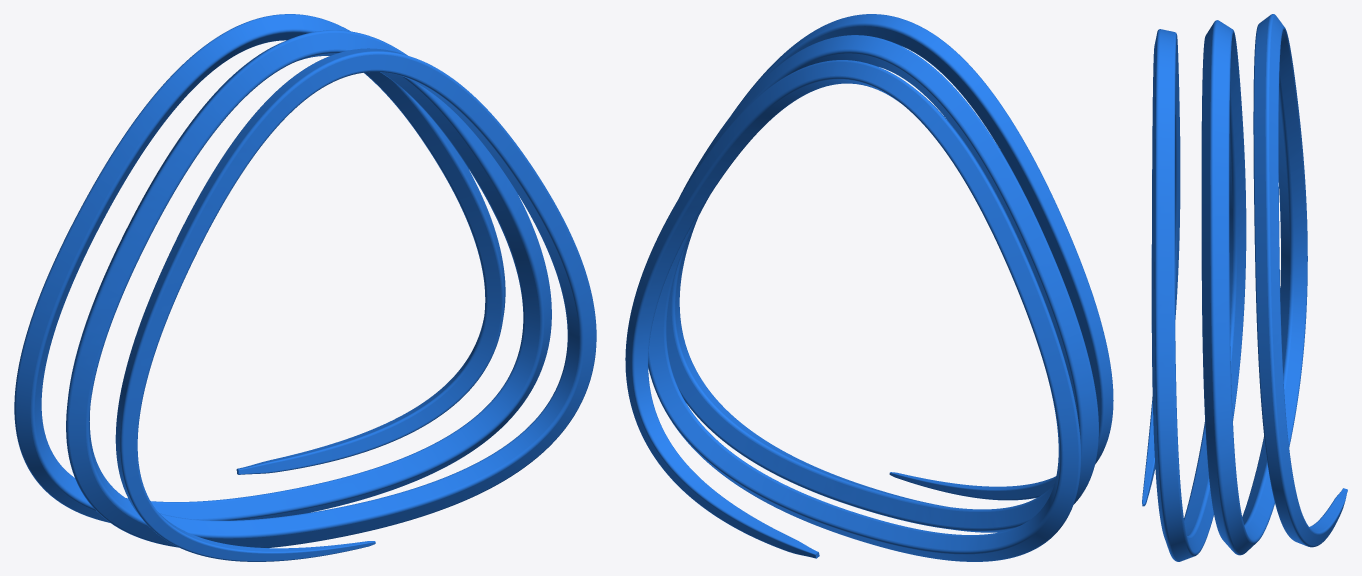
Rendered from viverse-symbol-anim.glb.
3 views of the same model, side by side, from view 1: azimuth 30°, elevation 25°; view 2: azimuth 150°, elevation 25°; view 3: azimuth 270°, elevation 25° (orthographic). The views are drawn at different scales.
Parts seen in each view (by area): view 1: Mesh_1; view 2: Mesh_1; view 3: Mesh_1.
Part boxes in pixels (x1,y1,x2,y2): Mesh_1: (14, 14, 596, 561); Mesh_1: (625, 14, 1113, 561); Mesh_1: (1142, 14, 1347, 561).
Size of the model in its own units: 39.19 by 36.91 by 14.5.
